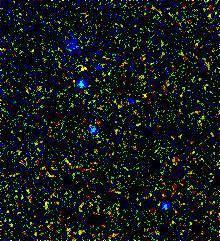star: (67, 54, 97, 84)
